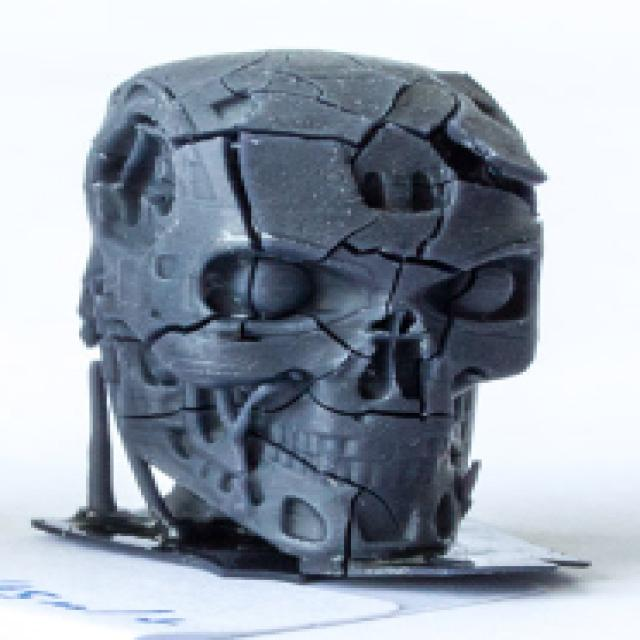cracks: (104, 379, 489, 452), (193, 100, 294, 265), (305, 489, 407, 614), (364, 235, 478, 338), (90, 310, 296, 357)
